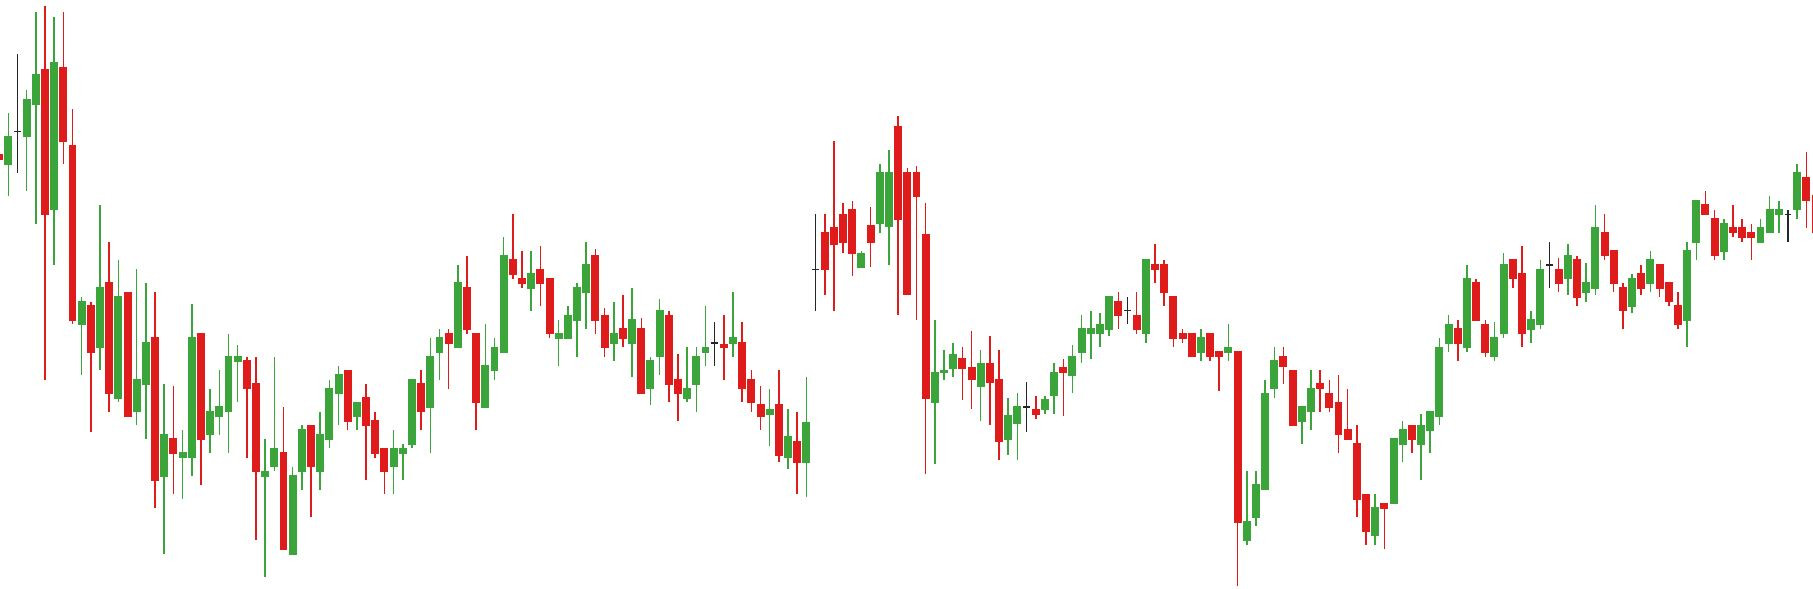buy: (158, 417, 271, 584), (1615, 277, 1693, 347)
sell: (829, 112, 904, 250)
